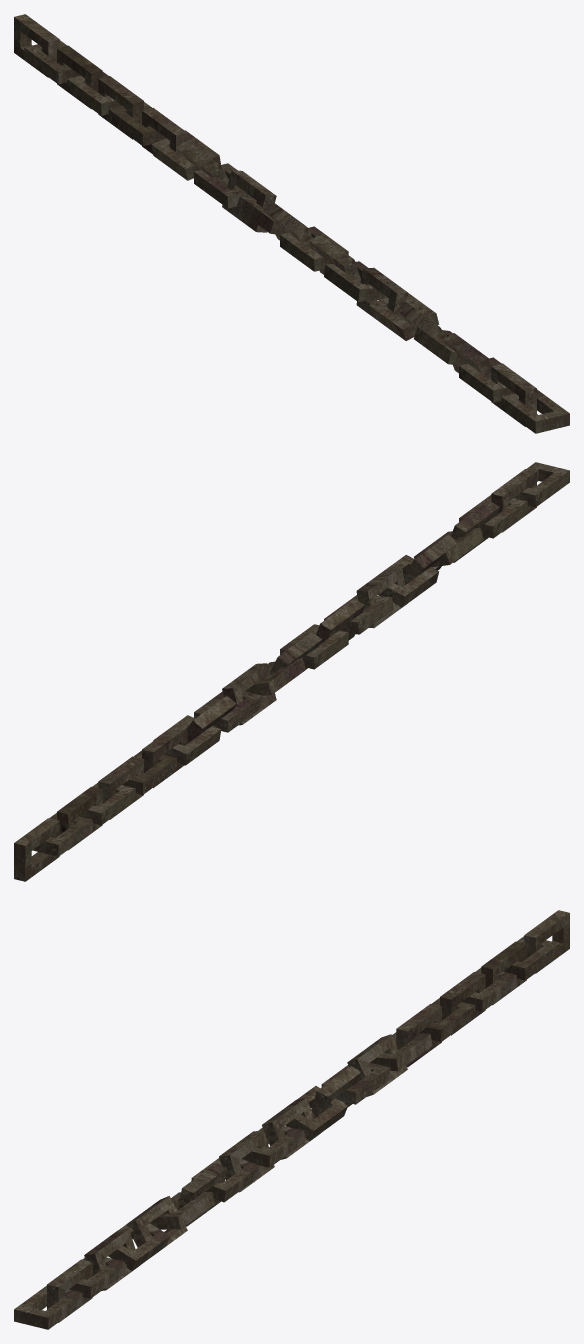
The model's file is TI_Chain_01.fbx.
The picture shows the model from 3 angles, top to bottom: view 1: azimuth 30°, elevation 25°; view 2: azimuth 150°, elevation 25°; view 3: azimuth 330°, elevation 25°; orthographic projection.
Parts seen in each view (by area): view 1: TI_Chain_01; view 2: TI_Chain_01; view 3: TI_Chain_01.
Boxes of the visible parts, <box> form: TI_Chain_01: <box>14,14,569,433</box>; TI_Chain_01: <box>14,462,569,881</box>; TI_Chain_01: <box>14,910,569,1329</box>.
Bounding box in the file's own units: 0.0919 × 0.0919 × 2.35.
